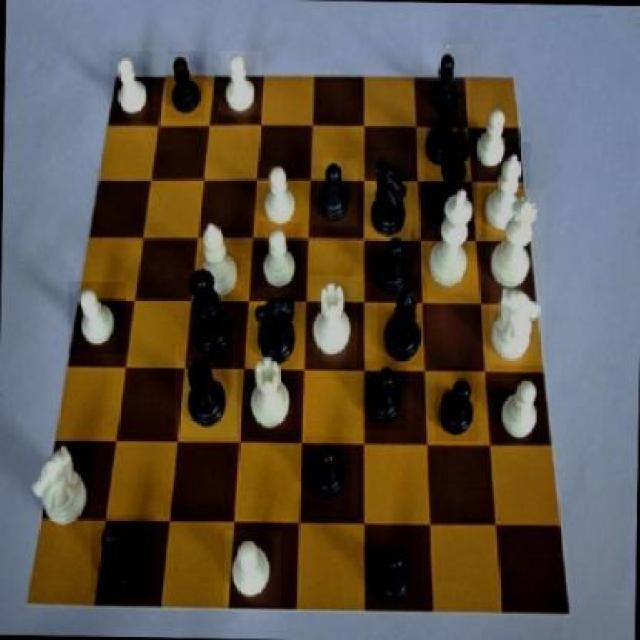bishop: (92, 514, 157, 594), (377, 274, 428, 366)
black-bishop: (424, 119, 478, 232)
black-king: (250, 288, 306, 372), (362, 151, 412, 241)
black-knight: (366, 535, 420, 608), (305, 437, 352, 514), (422, 43, 471, 116), (434, 366, 480, 442), (310, 158, 358, 228), (360, 360, 407, 431), (371, 229, 414, 300), (164, 51, 206, 120)
black-pawn: (178, 266, 240, 363)
black-queen: (174, 348, 237, 438), (420, 91, 468, 173)
black-rook: (482, 142, 532, 238), (194, 217, 243, 301)
white-bishop: (421, 183, 484, 293)
white-king: (26, 438, 93, 534), (490, 277, 546, 365)
white-knight: (223, 530, 281, 606), (494, 364, 546, 448), (68, 282, 125, 354), (257, 221, 303, 297), (257, 160, 304, 230), (468, 101, 512, 174), (109, 50, 154, 121), (218, 50, 262, 114)
white-pawn: (486, 188, 546, 294)
white-queen: (242, 348, 298, 438), (308, 275, 360, 368)
